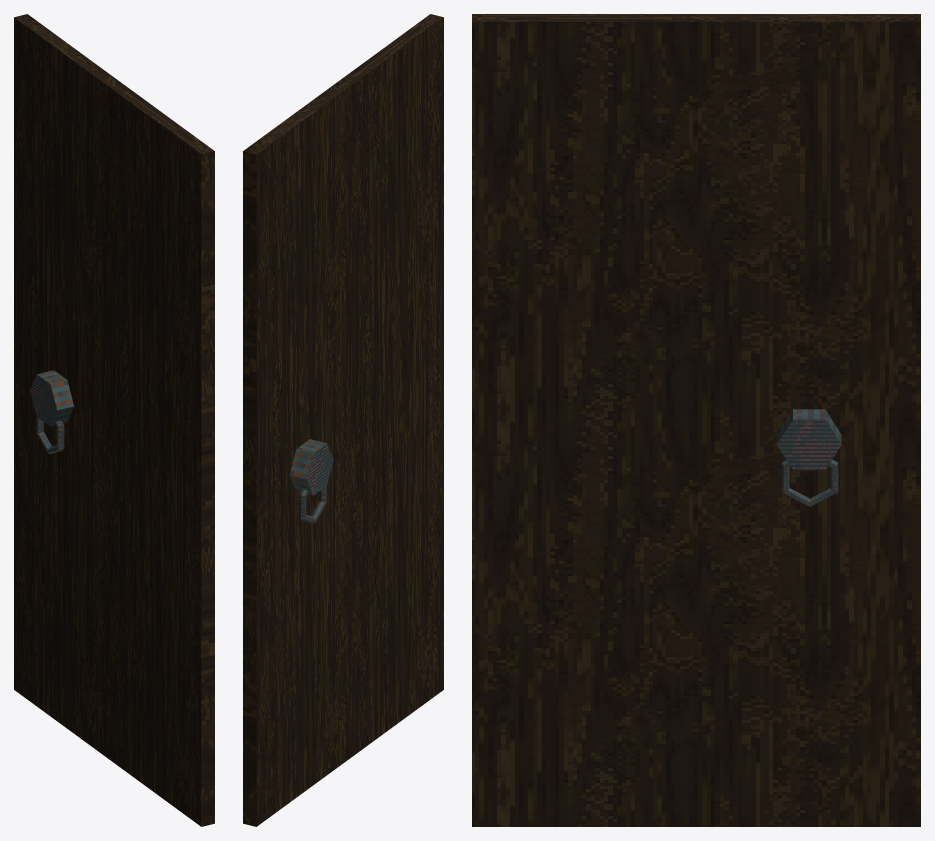
Rendered from Door.glb.
3 renders of one model, left to right at view 1: azimuth 30°, elevation 25°; view 2: azimuth 150°, elevation 25°; view 3: azimuth 270°, elevation 25°, orthographic. The views are drawn at different scales.
Visible parts, largest first — view 1: Door; view 2: Door; view 3: Door.
Boxes of the visible parts, x1,y1,x2,y2 form: Door: (14, 14, 214, 826); Door: (243, 14, 443, 826); Door: (472, 14, 920, 826).
Bounding box in the file's own units: 0.2202 × 2.97 × 1.5.
Materials: 2 (2 with a texture image).
